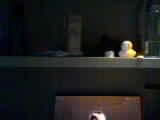duck: (115, 38, 131, 57)
